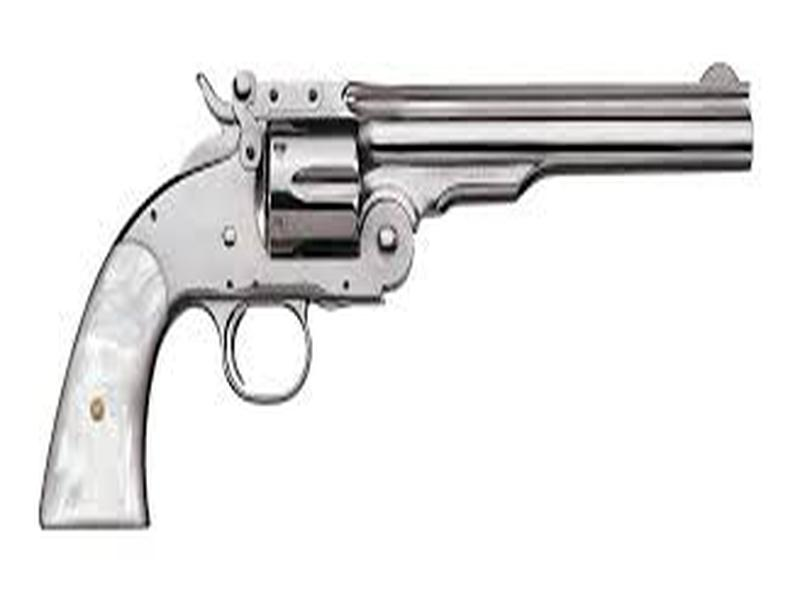gun: (41, 50, 756, 528)
